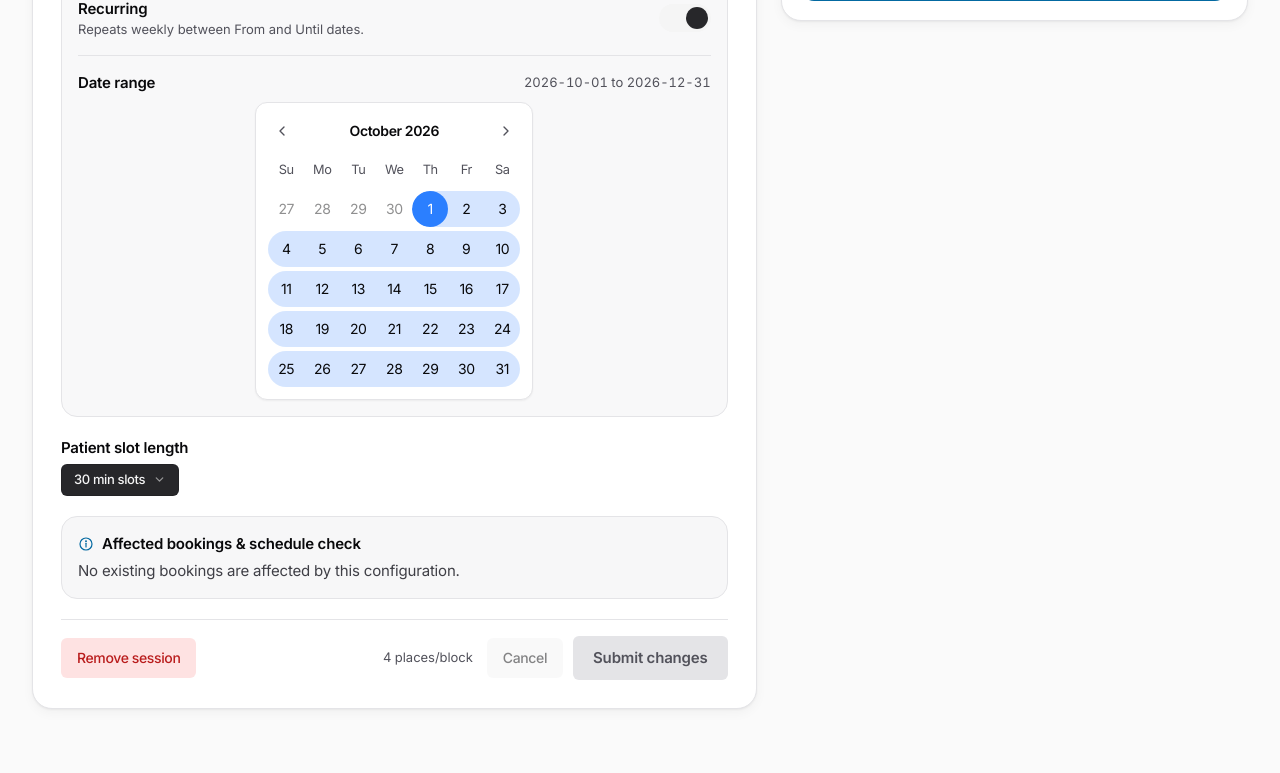
Test case: Doctor Dashboard Redesign › SessionStudio hides editing badge and visible room input while offering unified remove, cancel, and submit actions
This screenshot has width=1280, height=773.
(page scrolled)
Check: the button "Cancel" is shown, box [487,638,563,678]
Check: the button "Submit changes" is shown, box [573,636,728,680]
Clicking Remove session toggles confirmation state
What coordinates should you click on to do the following:
click the button "Remove session"
I would click on:
 (129, 658)
Its box is [61,638,196,678].
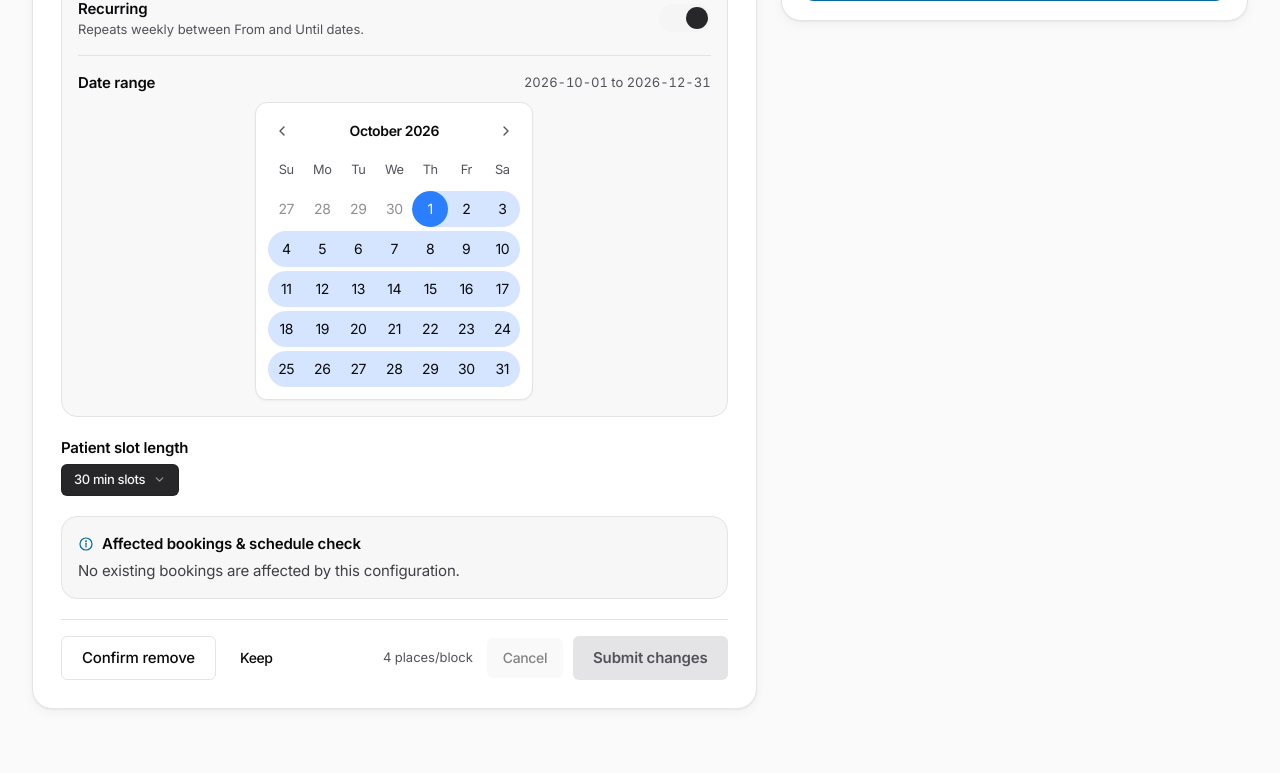
Check: the button "Confirm remove" is shown, box [61,636,216,680]
Check: the button "Keep" is shown
Clicking Keep restores the initial Remove session button
What coordinates should you click on to do the following:
click the button "Keep"
I would click on:
 (256, 658)
Its box is [224,638,289,678].
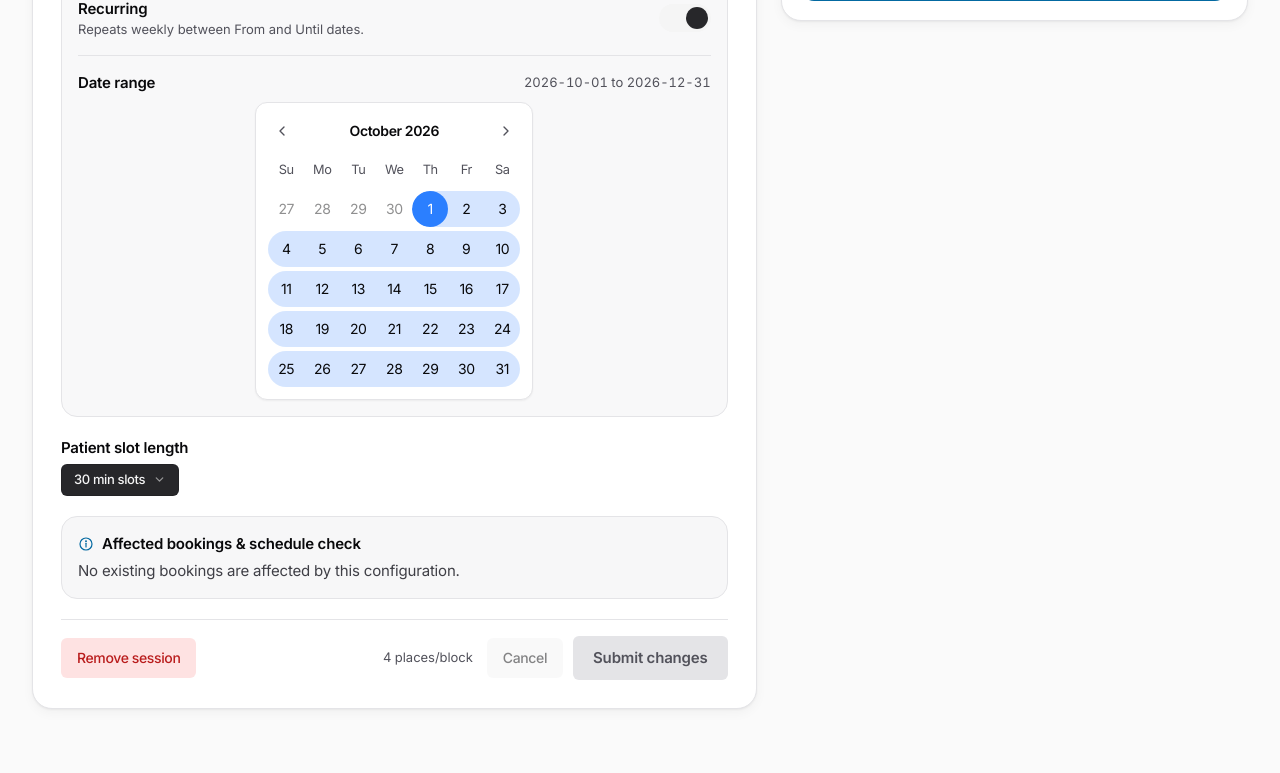
Check: the button "Remove session" is shown, box [61,638,196,678]
Check: the button "Confirm remove" is gone
